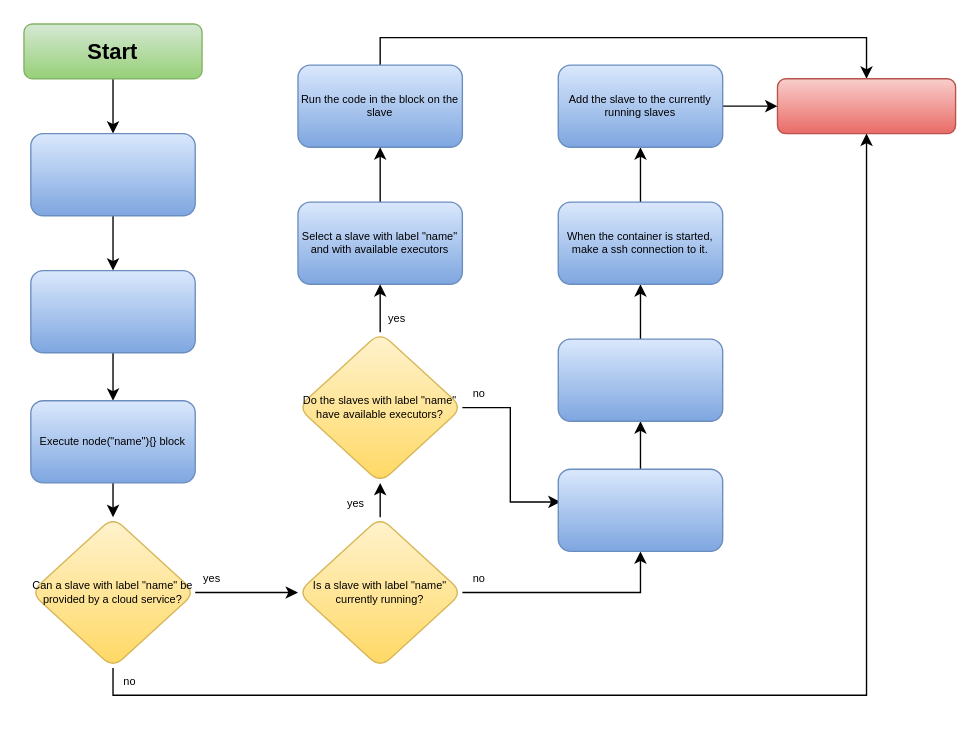
Image size: 980x730. Some labels were removed from this diagram. The box of each missing label's shape, as (x1, y1, x2, y2) in pixels:
End: (776, 77, 956, 134)
Execute pipeline script: (29, 269, 195, 353)
Search in the cloud services for the image of the slave with label "name": (557, 468, 723, 551)
Send a command to the docker server to run a container of the image: (557, 338, 723, 421)
Start the pipeline job: (29, 132, 195, 216)
